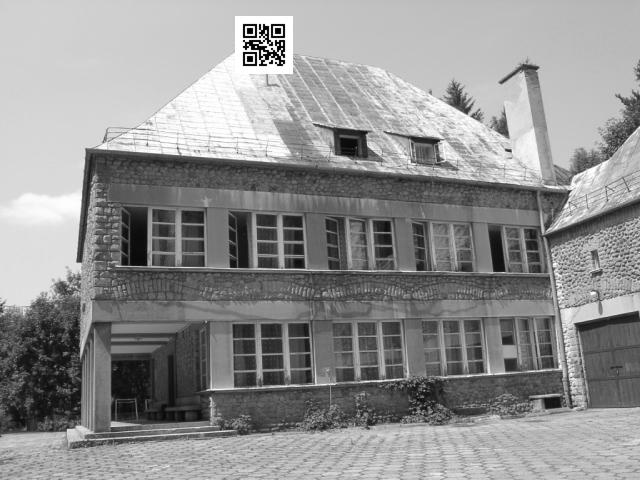qr_code: (234, 14, 293, 76)
